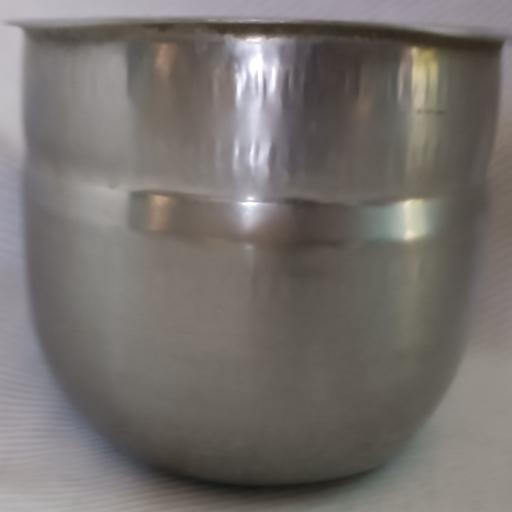vessel: (12, 19, 506, 485)
